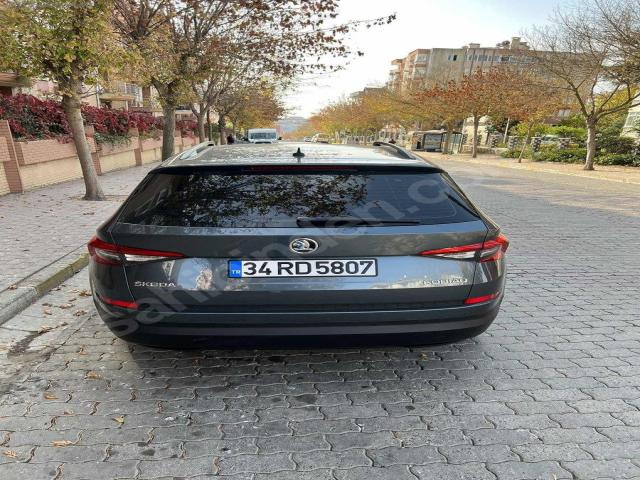plaka: (229, 259, 377, 278)
